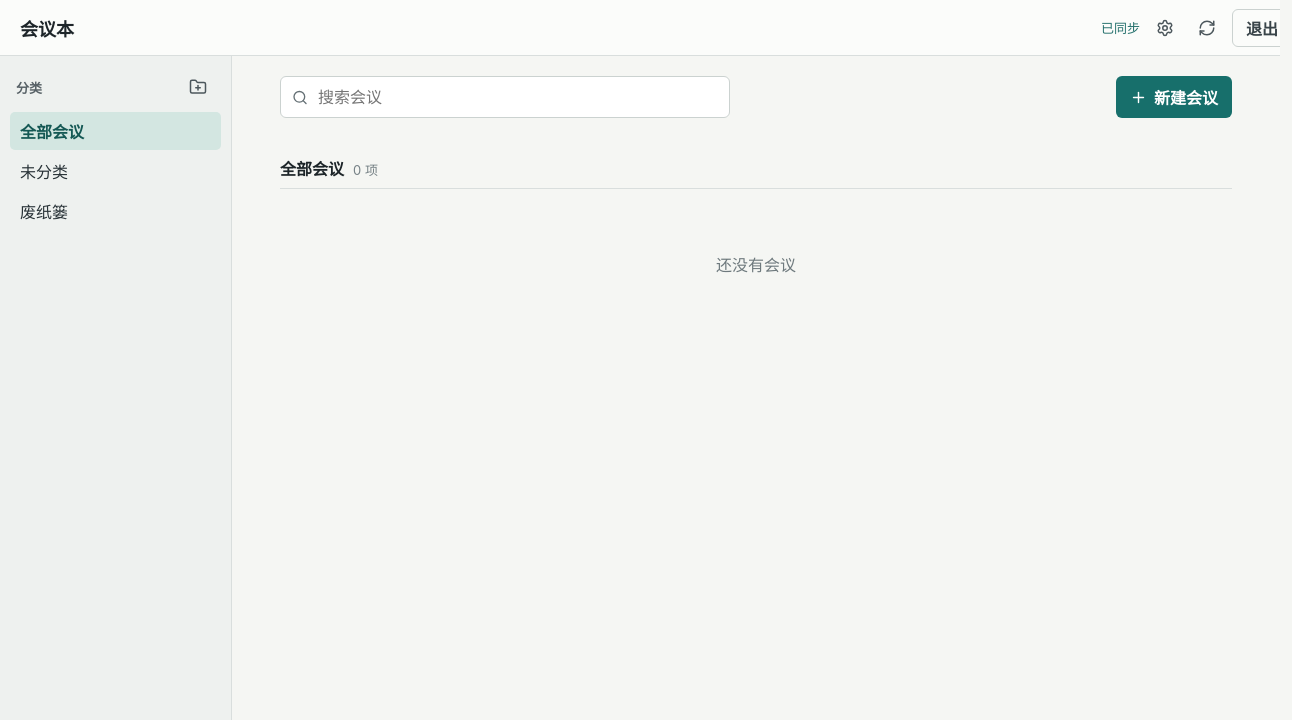
Test case: App session gate › pauses stale synchronization before logout changes the remote session
Expected: the heading "会议本" is shown, [20, 14, 74, 40]
Click the button "退出" at (1256, 28), box [1232, 8, 1280, 46]
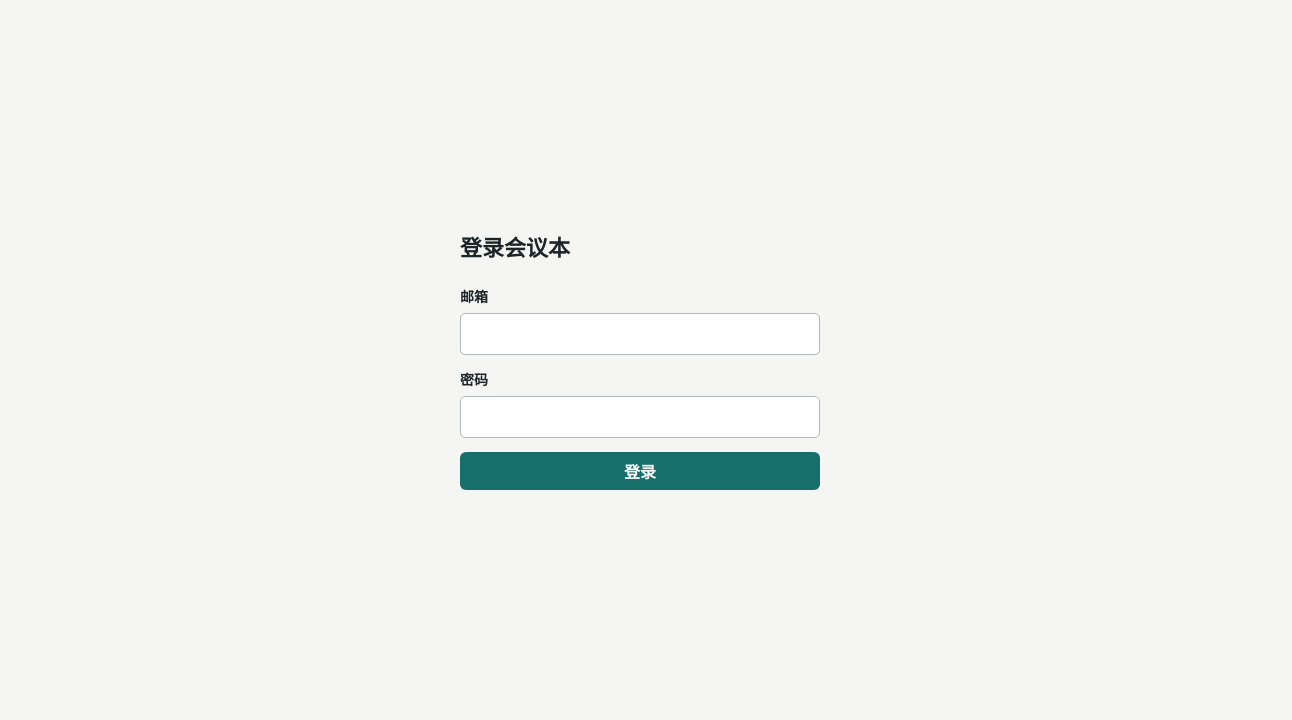
Result: the heading "登录会议本" is shown at [460, 235, 570, 261]
